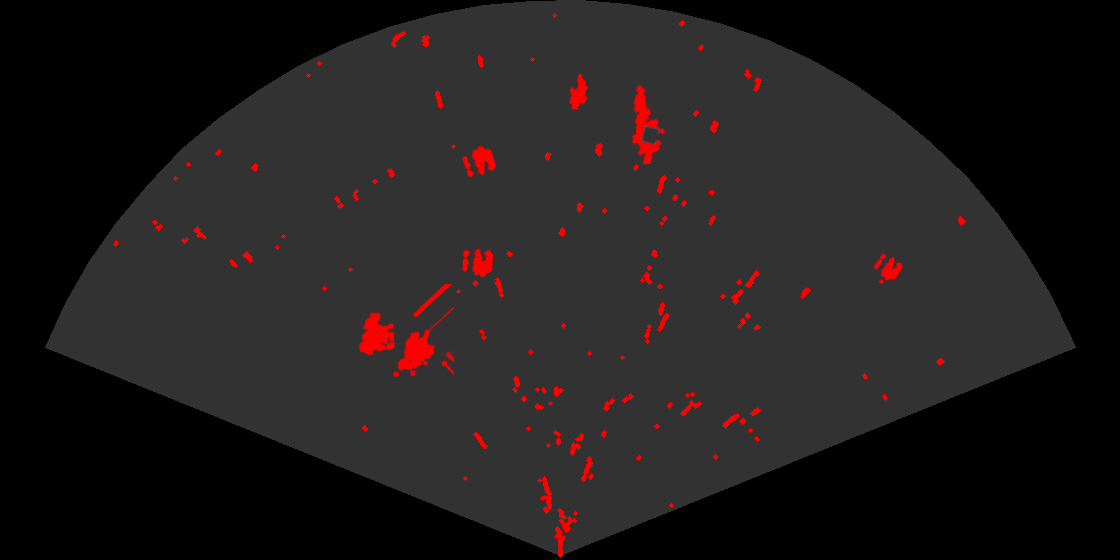AUV: (568, 72, 589, 112)
ball: (461, 144, 498, 179), (461, 247, 495, 279), (872, 252, 905, 283)
cage: (357, 284, 454, 379)
frogman: (630, 83, 667, 164)
